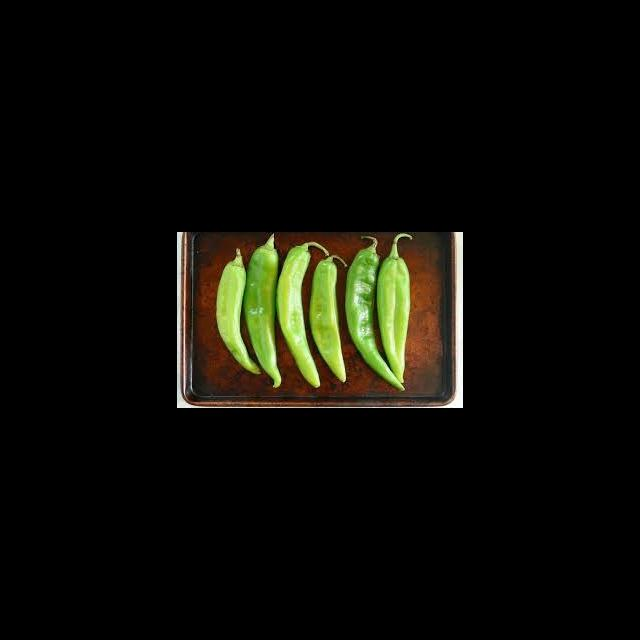chili_pepper: (340, 258, 408, 390), (244, 243, 282, 387), (274, 248, 311, 387), (313, 258, 350, 384), (216, 259, 246, 374)
